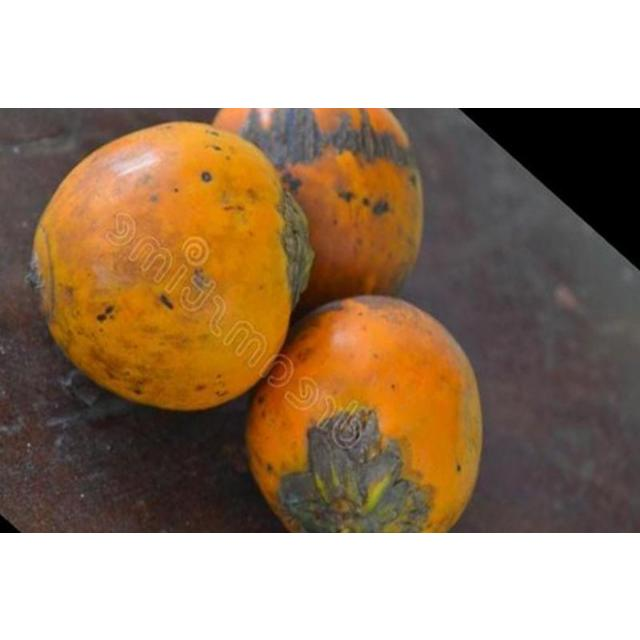good: (30, 120, 316, 413), (243, 294, 485, 532), (210, 107, 425, 321)
